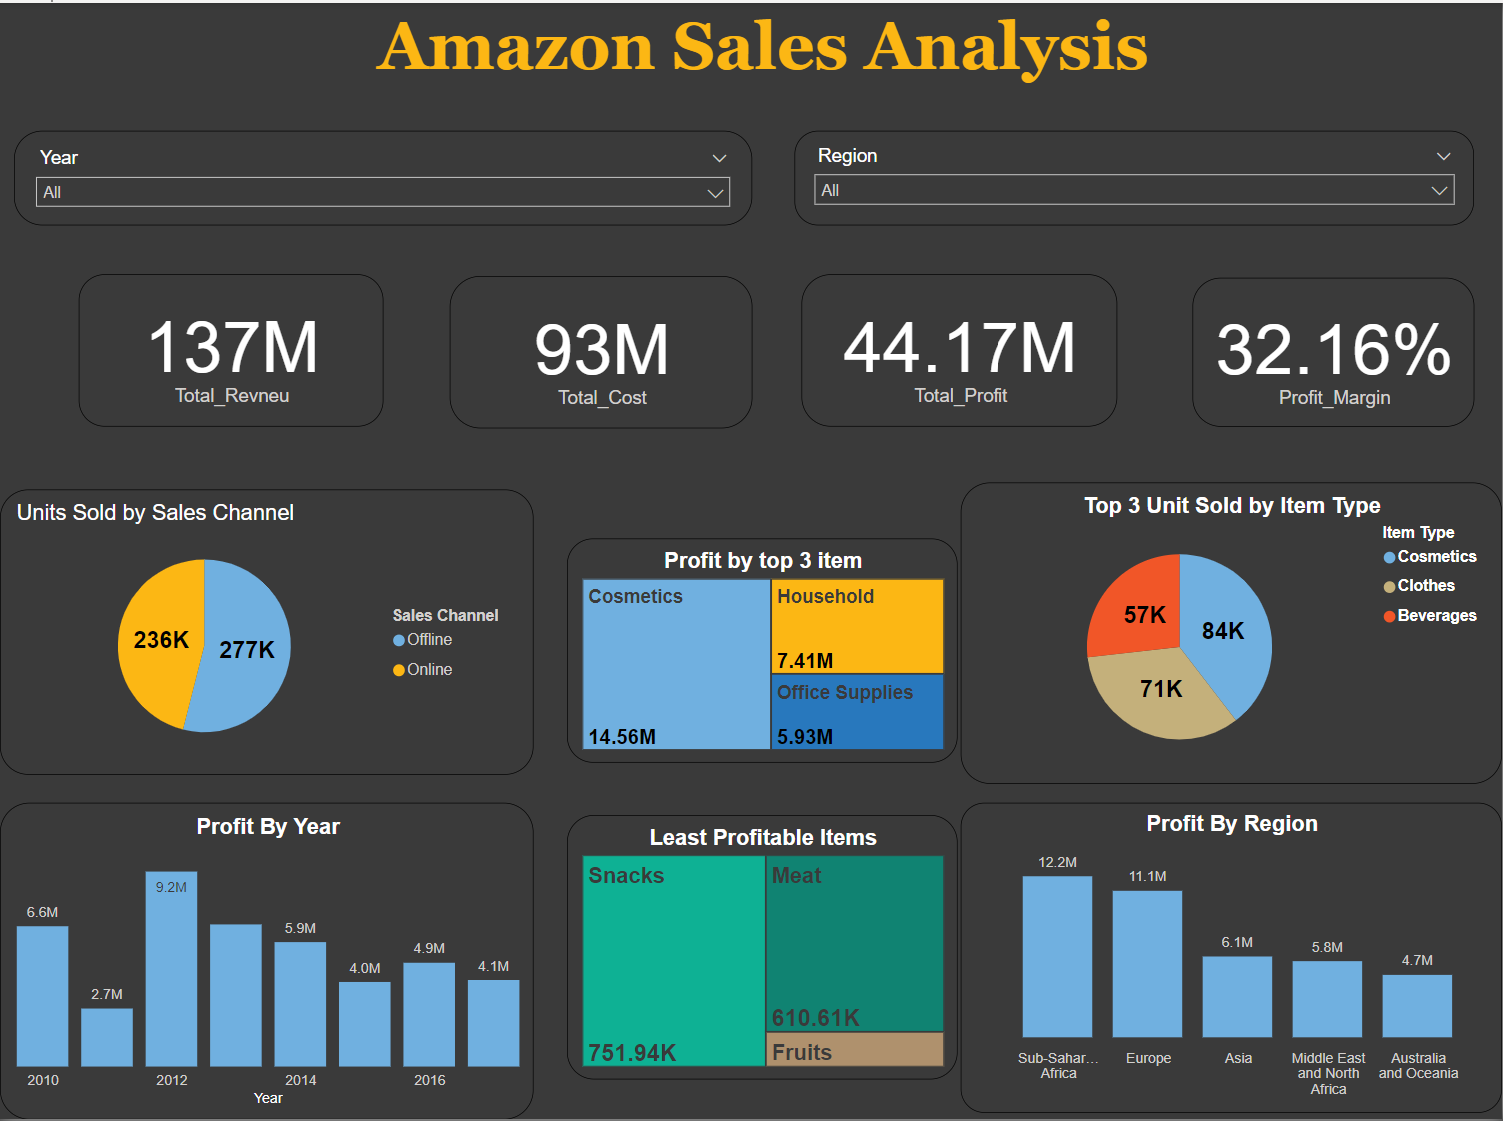

What the dashboard file says about the page in this screenshot:
{"tool":"powerbi","page":{"name":"Page 1","canvas":[1280,950],"ordinal":0},"visuals":[{"type":"columnChart","title":"Profit By Year","fields":{"Y":["Mesure (2).Total_Profit"],"Category":["amazon_DATASET.Order_Date.Variation.Date Hierarchy.Year","amazon_DATASET.Order_Date.Variation.Date Hierarchy.Quarter","amazon_DATASET.Order_Date.Variation.Date Hierarchy.Month","amazon_DATASET.Order_Date.Variation.Date Hierarchy.Day"]},"box":[0,681,454.5,269.7],"z":0},{"type":"card","fields":{"Values":["Mesure (2).Total_Revneu"]},"box":[67.1,231,259.3,129.6],"z":1},{"type":"card","fields":{"Values":["Mesure (2).Total_Cost"]},"box":[383,232.5,257.8,129.6],"z":2},{"type":"card","fields":{"Values":["Mesure (2).Total_Profit"]},"box":[682.5,231,269.7,129.6],"z":3},{"type":"card","fields":{"Values":["Mesure (2).Profit_Margin"]},"box":[1016.3,233.9,239.9,126.7],"z":4},{"type":"pieChart","fields":{"Category":["amazon_DATASET.Sales Channel"],"Y":["Sum(amazon_DATASET.Units Sold)"]},"box":[0,414.2,454.5,242.9],"z":5},{"type":"pieChart","title":"Top 3 Unit Sold by Item Type","fields":{"Category":["amazon_DATASET.Item Type"],"Y":["Sum(amazon_DATASET.Units Sold)"]},"box":[818.1,408.3,461.9,256.3],"z":7},{"type":"slicer","fields":{"Values":["amazon_DATASET.Order_Date.Variation.Date Hierarchy.Year"]},"box":[11.9,108.8,628.8,80.5],"z":9},{"type":"treemap","title":"Profit by  top 3 item","fields":{"Group":["amazon_DATASET.Item Type"],"Values":["Mesure (2).Total_Profit"]},"box":[482.8,456,332.3,190.7],"z":10},{"type":"slicer","fields":{"Values":["amazon_DATASET.Region"]},"box":[676.5,108.8,579.7,80.5],"z":11},{"type":"columnChart","title":"Profit By Region","fields":{"Category":["amazon_DATASET.Region"],"Y":["Mesure (2).Total_Profit"]},"box":[818.1,681,461.9,263.7],"z":12},{"type":"textbox","box":[20.9,0,1259.1,83.4],"z":13},{"type":"treemap","title":"Least Profitable Items","fields":{"Group":["amazon_DATASET.Item Type"],"Values":["Mesure (2).Total_Profit"]},"box":[482.8,691.4,332.3,225],"z":14}]}

Visuals, with their boxes in screenshot pixels (x1, y1, x2, y2), scaled from the page's 1280x950 canvas onto the 1503x1121 screenshot:
"Profit By Year" columnChart: bbox=[0, 804, 534, 1120]
card - Mesure (2).Total_Revneu: bbox=[79, 273, 383, 426]
card - Mesure (2).Total_Cost: bbox=[450, 274, 752, 427]
card - Mesure (2).Total_Profit: bbox=[801, 273, 1118, 426]
card - Mesure (2).Profit_Margin: bbox=[1193, 276, 1475, 426]
pieChart - amazon_DATASET.Sales Channel x Sum(amazon_DATASET.Units Sold): bbox=[0, 489, 534, 775]
"Top 3 Unit Sold by Item Type" pieChart: bbox=[961, 482, 1502, 784]
slicer - amazon_DATASET.Order_Date.Variation.Date Hierarchy.Year: bbox=[14, 128, 752, 223]
"Profit by  top 3 item" treemap: bbox=[567, 538, 957, 763]
slicer - amazon_DATASET.Region: bbox=[794, 128, 1475, 223]
"Profit By Region" columnChart: bbox=[961, 804, 1502, 1115]
textbox: bbox=[25, 0, 1502, 98]
"Least Profitable Items" treemap: bbox=[567, 816, 957, 1081]
